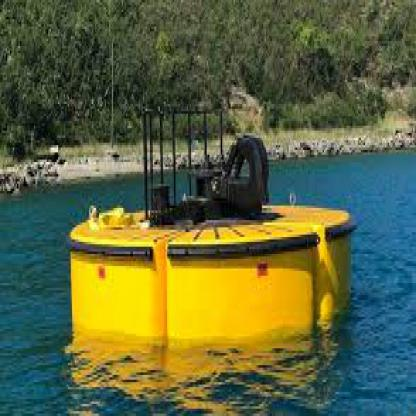buoy: (64, 102, 365, 370)
